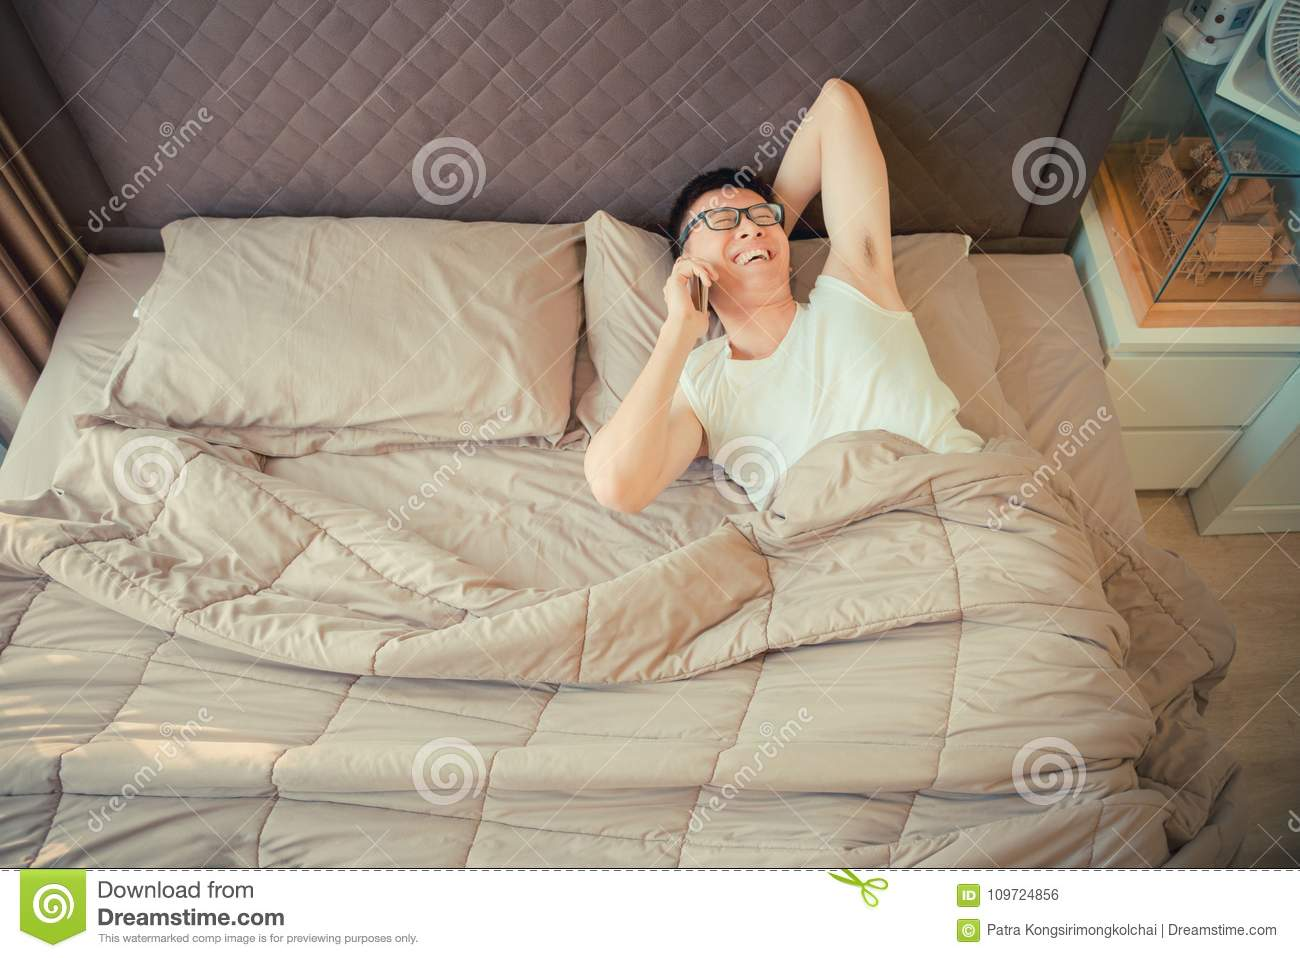phone: (678, 250, 715, 321)
talk: (662, 200, 790, 341)
